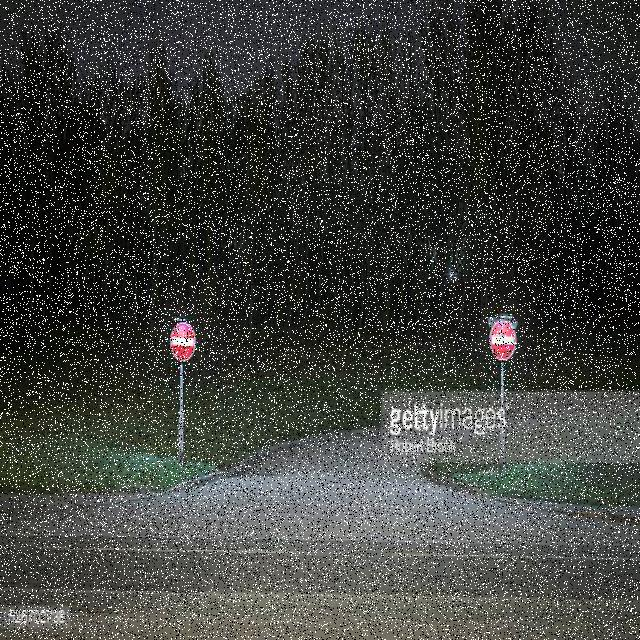no entry: (490, 321, 514, 360), (170, 322, 194, 360)
